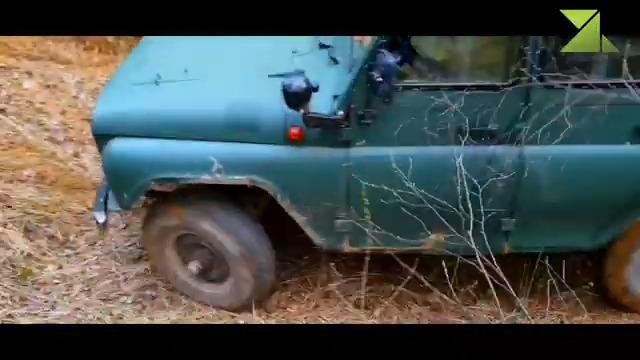MIL_HMMWV: (89, 35, 640, 315)
